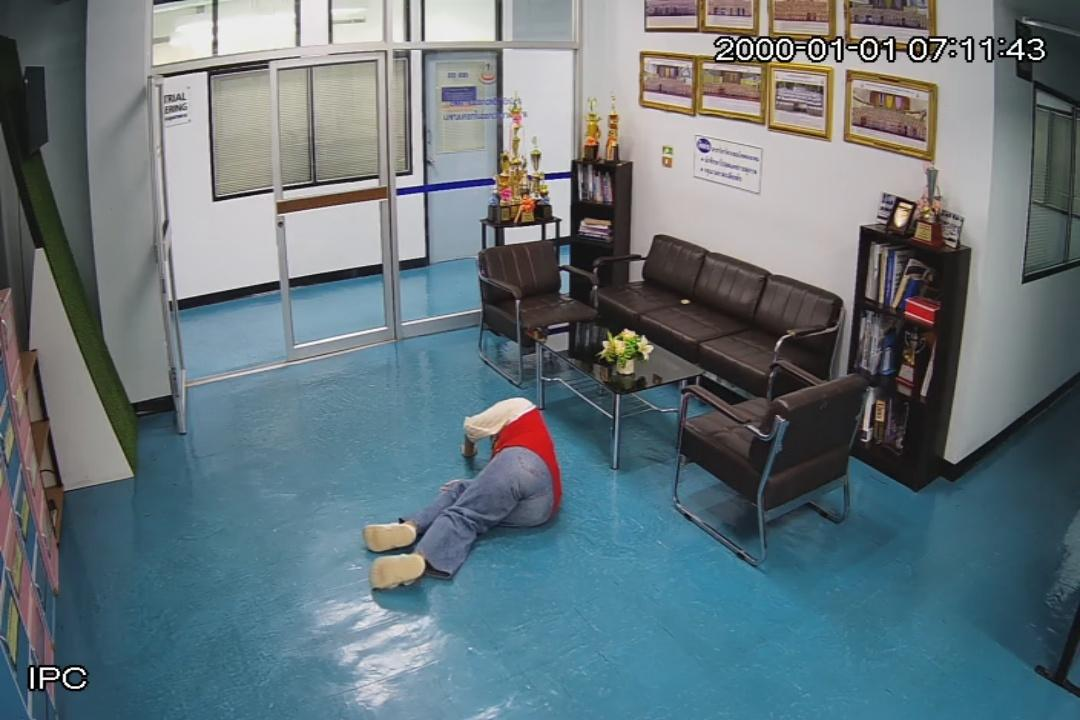fall: (364, 396, 562, 594)
